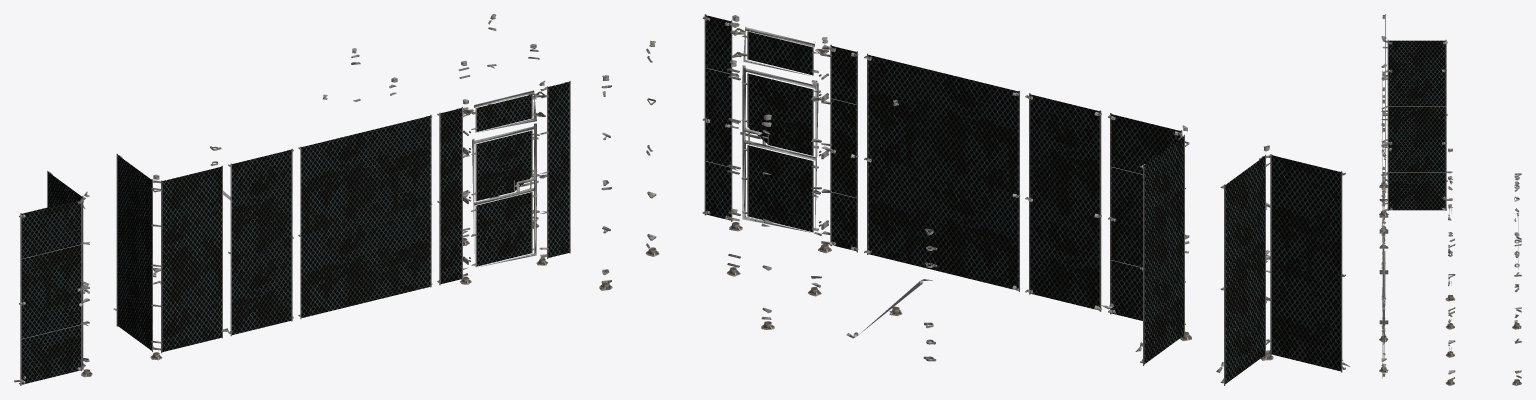
File: modular_chainlink_fence_opt.gltf
The picture shows the model from 3 angles, left to right: view 1: azimuth 30°, elevation 25°; view 2: azimuth 150°, elevation 25°; view 3: azimuth 270°, elevation 25°; orthographic projection. The views are drawn at different scales.
Parts seen in each view (by area): view 1: modular_chainlink_fence_double, modular_chainlink_fence_corner_outer, modular_chainlink_fence_corner_inner, modular_chainlink_fence_door_frame, modular_chainlink_fence, modular_chainlink_fence_door_gate; view 2: modular_chainlink_fence_double, modular_chainlink_fence_corner_inner, modular_chainlink_fence_corner_outer, modular_chainlink_fence_door_frame, modular_chainlink_fence, modular_chainlink_fence_door_gate; view 3: modular_chainlink_fence_corner_outer, modular_chainlink_fence_corner_inner, modular_chainlink_fence_door_frame, modular_chainlink_fence_door_gate, modular_chainlink_fence_start_01_corner_02, modular_chainlink_fence_start_01_corner_01, modular_chainlink_fence_end_02, modular_chainlink_fence_end_01, modular_chainlink_post_middle.
Part boxes in pixels (x1=…): modular_chainlink_fence_double: x1=298, y1=114, x2=432, y2=319; modular_chainlink_fence_corner_outer: x1=113, y1=153, x2=228, y2=360; modular_chainlink_fence_corner_inner: x1=14, y1=170, x2=92, y2=385; modular_chainlink_fence_door_frame: x1=437, y1=80, x2=570, y2=285; modular_chainlink_fence: x1=228, y1=148, x2=293, y2=336; modular_chainlink_fence_door_gate: x1=471, y1=123, x2=537, y2=267; modular_chainlink_fence_double: x1=864, y1=53, x2=1020, y2=291; modular_chainlink_fence_corner_inner: x1=1216, y1=145, x2=1349, y2=385; modular_chainlink_fence_corner_outer: x1=1101, y1=113, x2=1191, y2=365; modular_chainlink_fence_door_frame: x1=702, y1=14, x2=858, y2=253; modular_chainlink_fence: x1=1025, y1=93, x2=1101, y2=311; modular_chainlink_fence_door_gate: x1=741, y1=65, x2=818, y2=232; modular_chainlink_fence_corner_outer: x1=1379, y1=63, x2=1452, y2=235; modular_chainlink_fence_corner_inner: x1=1379, y1=14, x2=1452, y2=188; modular_chainlink_fence_door_frame: x1=1379, y1=183, x2=1388, y2=378; modular_chainlink_fence_door_gate: x1=1382, y1=231, x2=1385, y2=357; modular_chainlink_fence_start_01_corner_02: x1=1512, y1=232, x2=1521, y2=385; modular_chainlink_fence_start_01_corner_01: x1=1445, y1=232, x2=1455, y2=385; modular_chainlink_fence_end_02: x1=1512, y1=176, x2=1521, y2=329; modular_chainlink_fence_end_01: x1=1445, y1=176, x2=1454, y2=329; modular_chainlink_post_middle: x1=1445, y1=204, x2=1454, y2=357.
Size of the model in its own units: 8.11 by 2.5 by 2.15.
Materials: 2 (2 with a texture image).
